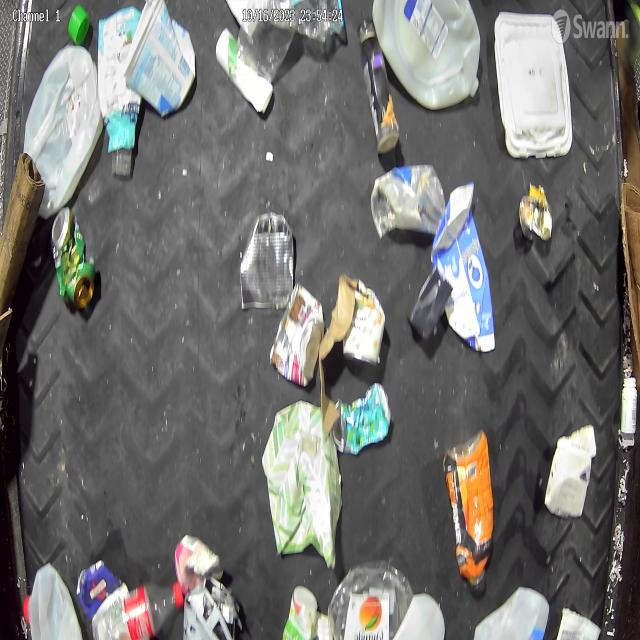can: (269, 282, 325, 386), (240, 211, 296, 313), (51, 207, 95, 310), (334, 382, 393, 455), (343, 278, 386, 366), (174, 533, 225, 594), (520, 187, 552, 241)
milk_jug: (26, 46, 104, 218), (372, 0, 482, 109), (470, 585, 550, 639), (28, 567, 84, 639), (384, 593, 445, 639)
non_white_jug: (430, 182, 495, 352)
plastic_bottle: (326, 557, 415, 640), (93, 584, 187, 640)
